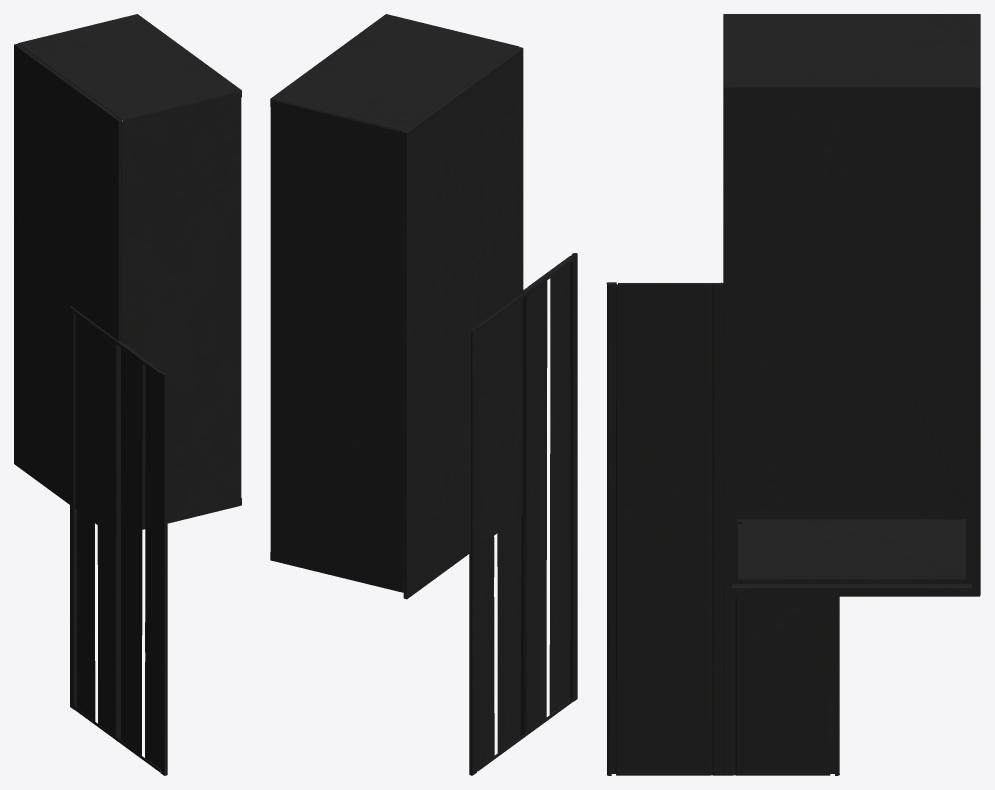
The model's file is furniture_workbench_modular_b01.glb.
3 views of the same model, side by side, from view 1: azimuth 30°, elevation 25°; view 2: azimuth 150°, elevation 25°; view 3: azimuth 270°, elevation 25° (orthographic). The views are drawn at different scales.
Visible parts, largest first — view 1: geometry_0; view 2: geometry_0; view 3: geometry_0.
Part boxes in pixels (box(x1,y1,x2,y2)): geometry_0: box(14, 14, 241, 775); geometry_0: box(270, 14, 577, 775); geometry_0: box(606, 14, 980, 775).
Bounding box in the file's own units: 0.0888 × 0.42 × 0.1869.
1 material, 1 textured.
